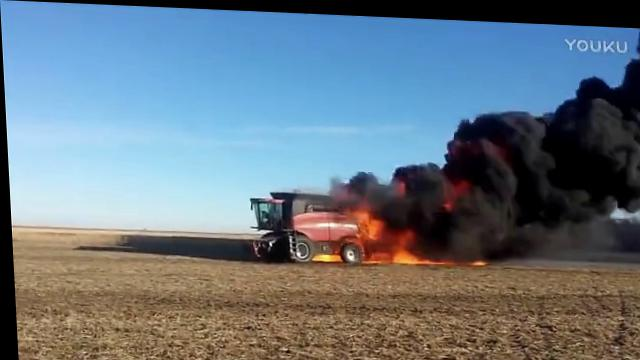fire: (387, 228, 415, 259), (361, 238, 386, 260), (361, 217, 382, 238), (342, 203, 366, 220), (310, 250, 338, 260), (419, 254, 445, 260), (469, 256, 481, 261)
